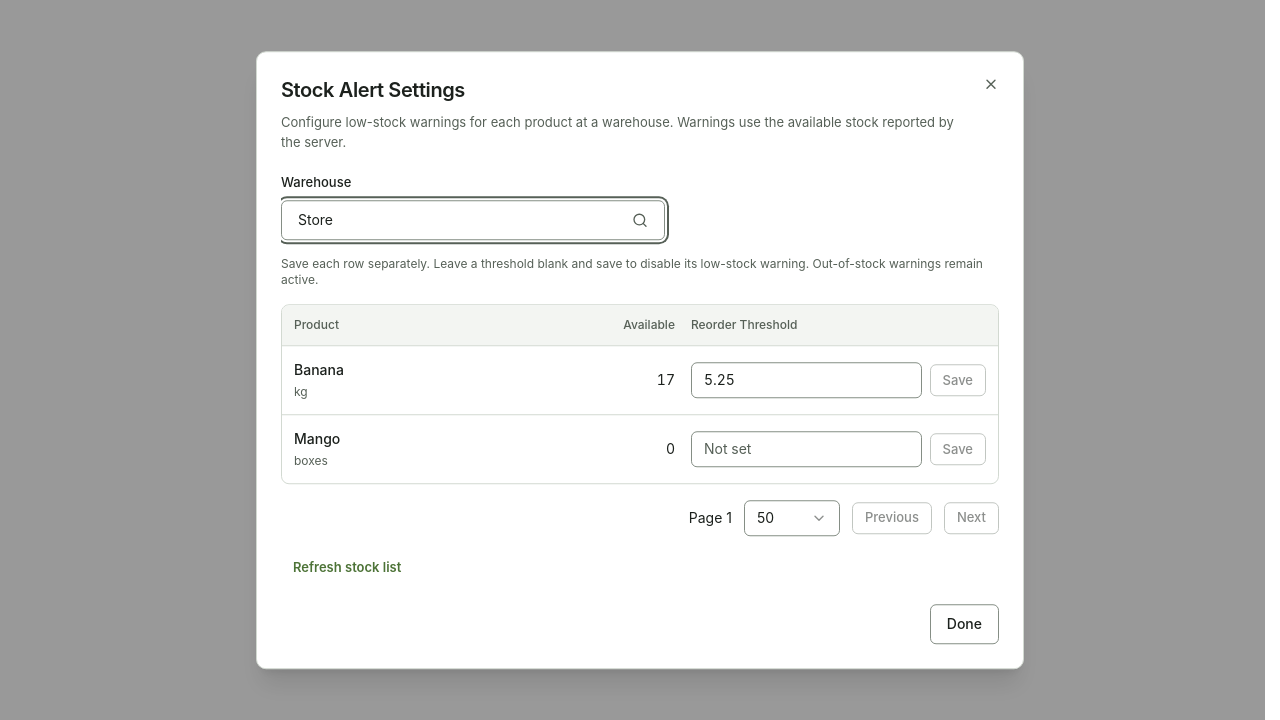
it: persists the stock-item ID and exact string, prevents duplicate saves and refreshes shared caches
Replace the text in the field named "Reorder threshold for Banana" with "9999999999.99": (806, 380) [691,362,922,398]
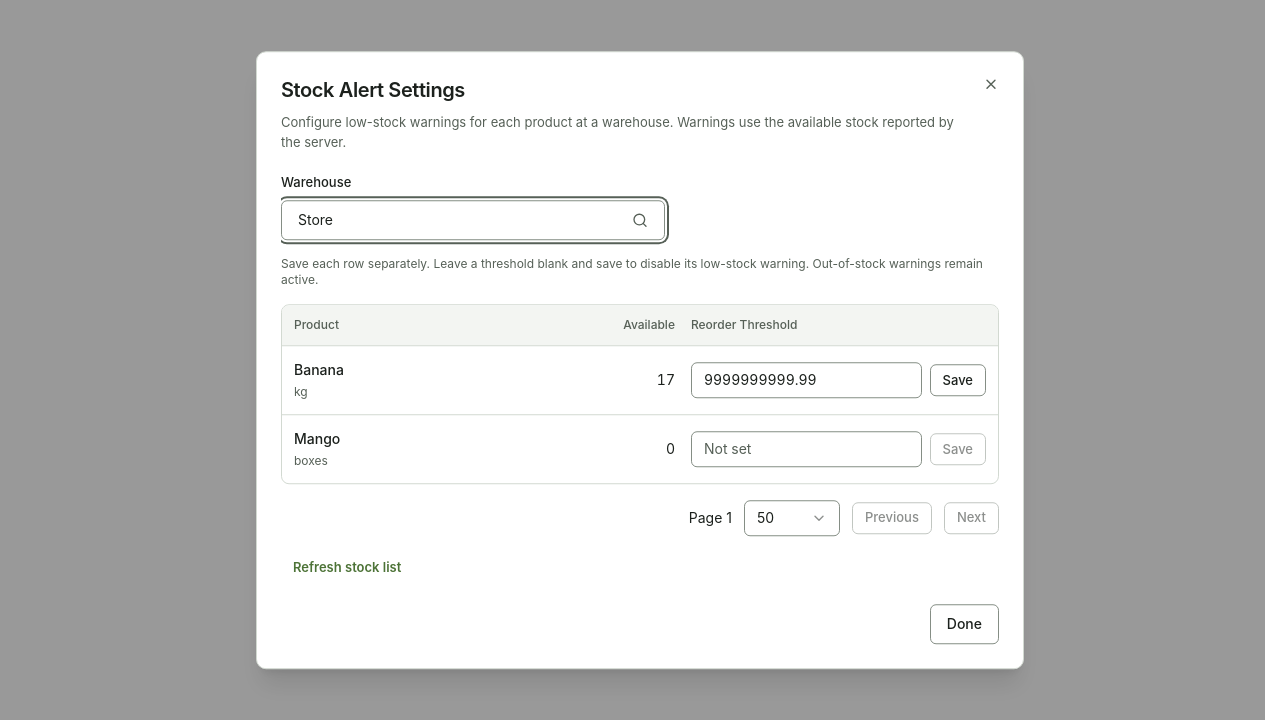
Submit the form "Save" in the row of "Banana", box [691,362,986,398]
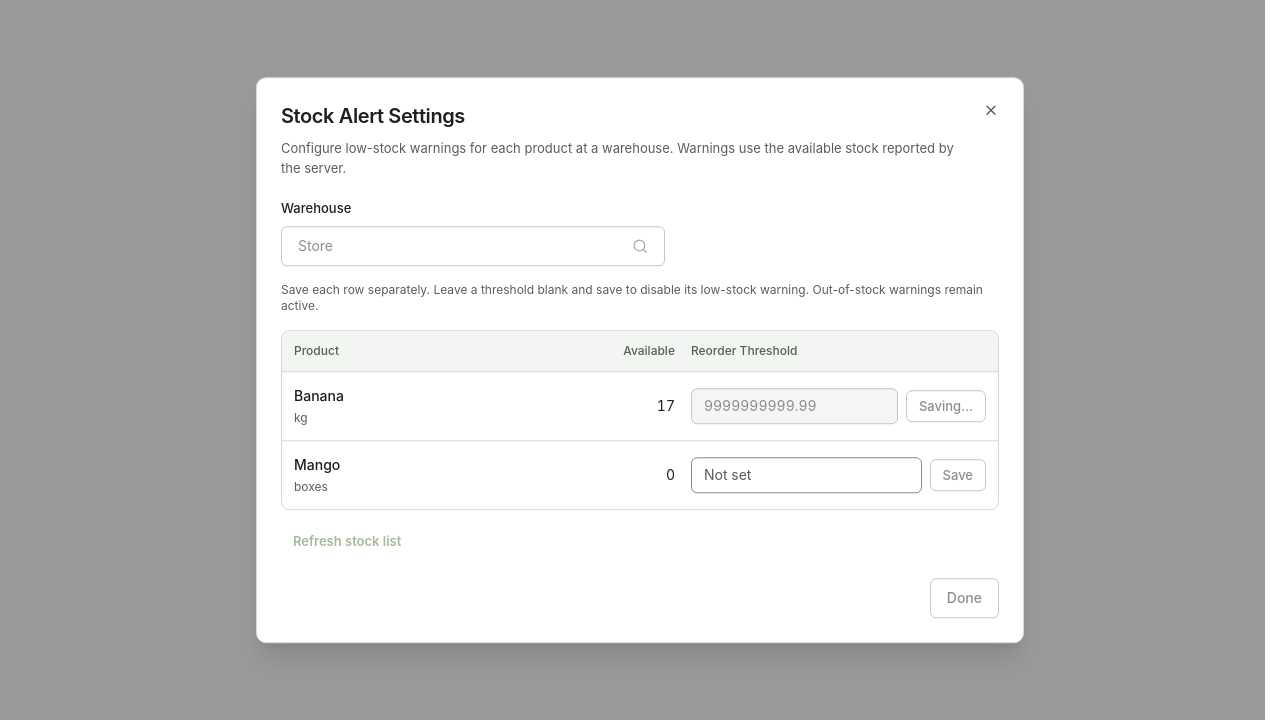
Submit the form "Saving…", box [691,388,986,424]
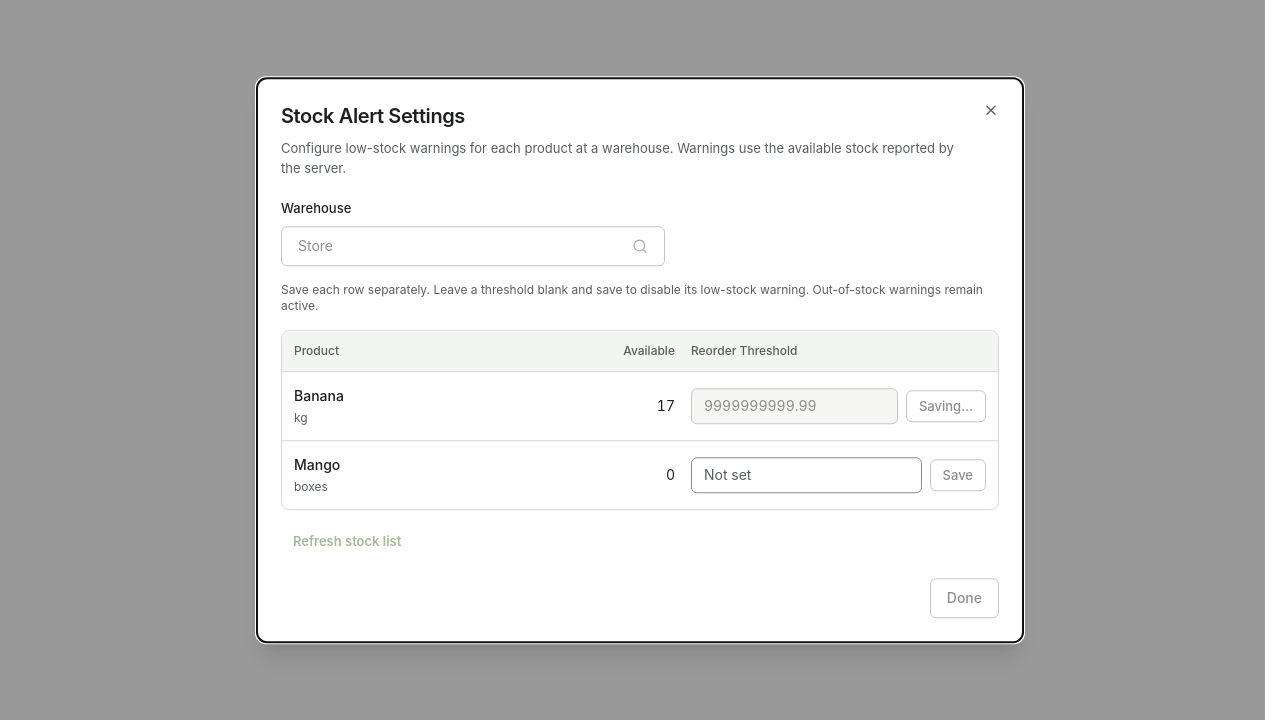
Expected: the button "Done" is disabled, [930,578,999,618]
Expected: the button named "Close" is disabled, [975,94,1007,126]
Press Escape in the dialog, box [256,77,1024,643]
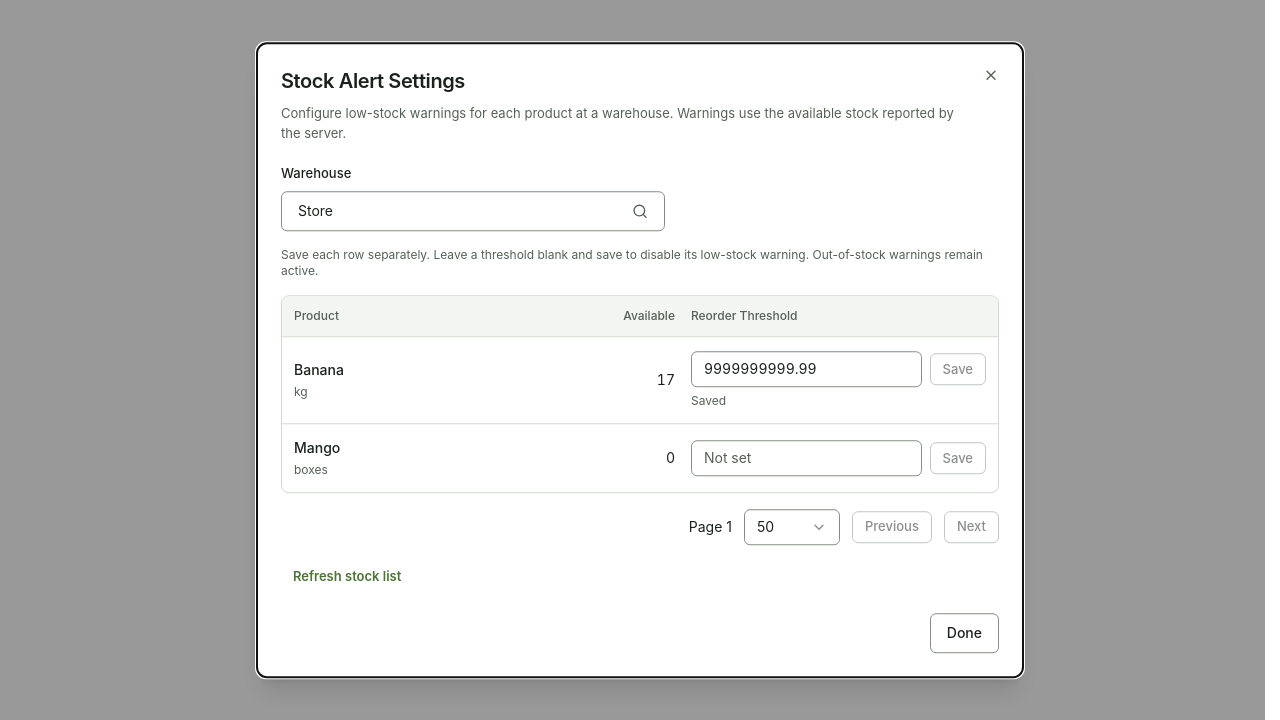
Expected: the text "Saved" is shown, [691,393,726,408]
